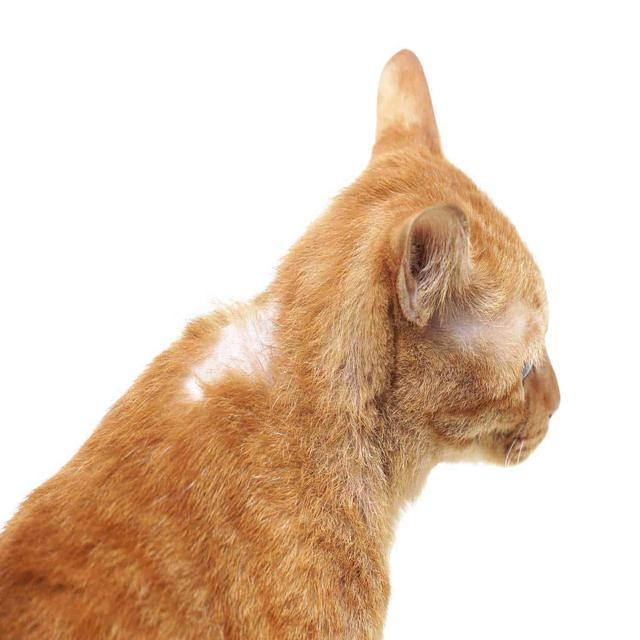hairloss: (200, 315, 280, 381)
